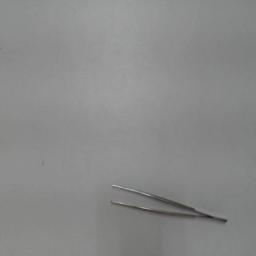Gillies Toothed Dissector: (101, 174, 231, 228)
